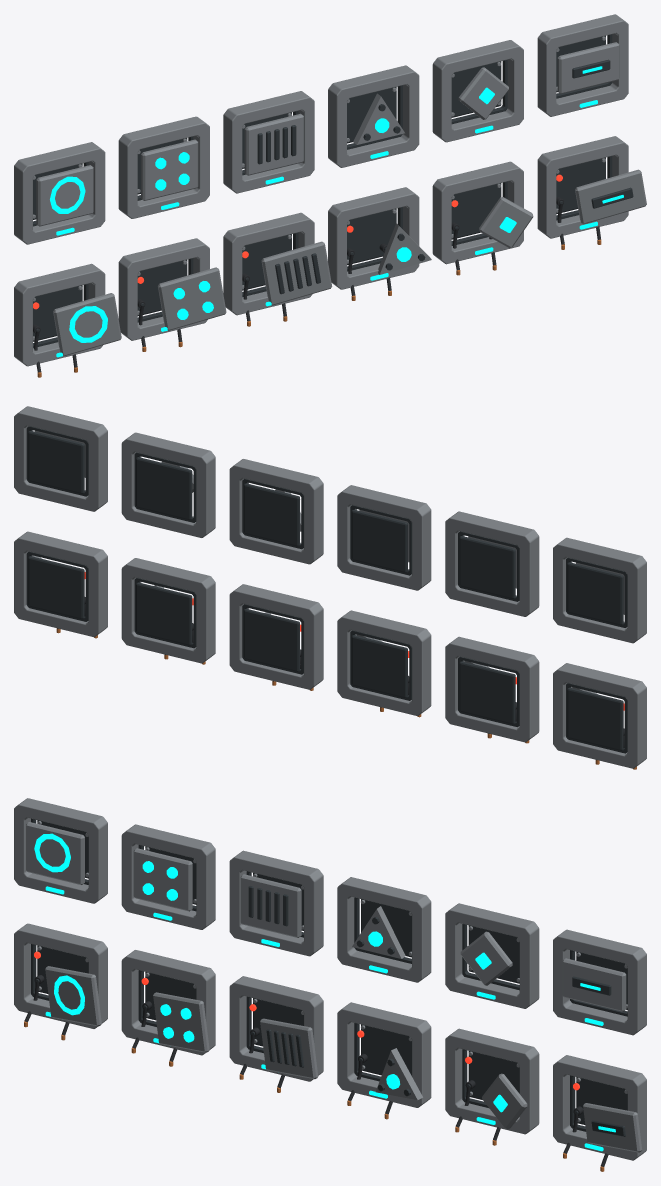
The model's file is QF_MachineNodeKitV2.fbx.
3 renders of one model, top to bottom at view 1: azimuth 30°, elevation 25°; view 2: azimuth 150°, elevation 25°; view 3: azimuth 330°, elevation 25°, orthographic. The views are drawn at different scales.
Parts seen in each view (by area): view 1: NODE_05_DIAMOND_INTACT_FrameIntegrated, NODE_04_RELAY_INTACT_FrameIntegrated, NODE_06_HORIZONTAL_INTACT_FrameIntegrated, NODE_01_RING_INTACT_FrameIntegrated, NODE_02_SENSOR_INTACT_FrameIntegrated, NODE_03_VENT_INTACT_FrameIntegrated, NODE_05_DIAMOND_DAMAGED_FrameIntegrated, NODE_04_RELAY_DAMAGED_FrameIntegrated, NODE_06_HORIZONTAL_DAMAGED_FrameIntegrated, NODE_02_SENSOR_DAMAGED_FrameIntegrated, NODE_03_VENT_DAMAGED_FrameIntegrated, NODE_01_RING_DAMAGED_FrameIntegrated (+23 smaller); view 2: NODE_05_DIAMOND_INTACT_FrameIntegrated, NODE_03_VENT_INTACT_FrameIntegrated, NODE_02_SENSOR_DAMAGED_FrameIntegrated, NODE_04_RELAY_DAMAGED_FrameIntegrated, NODE_04_RELAY_INTACT_FrameIntegrated, NODE_02_SENSOR_INTACT_FrameIntegrated, NODE_03_VENT_DAMAGED_FrameIntegrated, NODE_05_DIAMOND_DAMAGED_FrameIntegrated, NODE_01_RING_INTACT_FrameIntegrated, NODE_06_HORIZONTAL_DAMAGED_FrameIntegrated, NODE_06_HORIZONTAL_INTACT_FrameIntegrated, NODE_01_RING_DAMAGED_FrameIntegrated (+24 smaller); view 3: NODE_05_DIAMOND_INTACT_FrameIntegrated, NODE_04_RELAY_INTACT_FrameIntegrated, NODE_02_SENSOR_INTACT_FrameIntegrated, NODE_06_HORIZONTAL_INTACT_FrameIntegrated, NODE_05_DIAMOND_DAMAGED_FrameIntegrated, NODE_03_VENT_INTACT_FrameIntegrated, NODE_01_RING_INTACT_FrameIntegrated, NODE_04_RELAY_DAMAGED_FrameIntegrated, NODE_06_HORIZONTAL_DAMAGED_FrameIntegrated, NODE_02_SENSOR_DAMAGED_FrameIntegrated, NODE_03_VENT_DAMAGED_FrameIntegrated, NODE_01_RING_DAMAGED_FrameIntegrated (+22 smaller).
Boxes of the visible parts, x1=… form: NODE_05_DIAMOND_INTACT_FrameIntegrated: x1=432, y1=40, x2=523, y2=142; NODE_04_RELAY_INTACT_FrameIntegrated: x1=328, y1=65, x2=419, y2=167; NODE_06_HORIZONTAL_INTACT_FrameIntegrated: x1=537, y1=14, x2=628, y2=116; NODE_01_RING_INTACT_FrameIntegrated: x1=14, y1=142, x2=105, y2=244; NODE_02_SENSOR_INTACT_FrameIntegrated: x1=118, y1=116, x2=209, y2=218; NODE_03_VENT_INTACT_FrameIntegrated: x1=223, y1=91, x2=314, y2=193; NODE_05_DIAMOND_DAMAGED_FrameIntegrated: x1=432, y1=161, x2=523, y2=264; NODE_04_RELAY_DAMAGED_FrameIntegrated: x1=328, y1=187, x2=419, y2=289; NODE_06_HORIZONTAL_DAMAGED_FrameIntegrated: x1=537, y1=136, x2=628, y2=238; NODE_02_SENSOR_DAMAGED_FrameIntegrated: x1=118, y1=238, x2=209, y2=340; NODE_03_VENT_DAMAGED_FrameIntegrated: x1=223, y1=212, x2=314, y2=315; NODE_01_RING_DAMAGED_FrameIntegrated: x1=14, y1=263, x2=105, y2=366; NODE_05_DIAMOND_INTACT_FrameIntegrated: x1=121, y1=432, x2=215, y2=537; NODE_03_VENT_INTACT_FrameIntegrated: x1=337, y1=485, x2=431, y2=590; NODE_02_SENSOR_DAMAGED_FrameIntegrated: x1=445, y1=636, x2=539, y2=742; NODE_04_RELAY_DAMAGED_FrameIntegrated: x1=229, y1=584, x2=323, y2=689; NODE_04_RELAY_INTACT_FrameIntegrated: x1=229, y1=459, x2=323, y2=564; NODE_02_SENSOR_INTACT_FrameIntegrated: x1=445, y1=511, x2=539, y2=616; NODE_03_VENT_DAMAGED_FrameIntegrated: x1=337, y1=610, x2=431, y2=715; NODE_05_DIAMOND_DAMAGED_FrameIntegrated: x1=121, y1=558, x2=215, y2=663; NODE_01_RING_INTACT_FrameIntegrated: x1=553, y1=537, x2=646, y2=643; NODE_06_HORIZONTAL_DAMAGED_FrameIntegrated: x1=14, y1=531, x2=107, y2=637; NODE_06_HORIZONTAL_INTACT_FrameIntegrated: x1=14, y1=406, x2=107, y2=511; NODE_01_RING_DAMAGED_FrameIntegrated: x1=553, y1=663, x2=646, y2=768; NODE_05_DIAMOND_INTACT_FrameIntegrated: x1=445, y1=903, x2=539, y2=1008; NODE_04_RELAY_INTACT_FrameIntegrated: x1=337, y1=877, x2=431, y2=982; NODE_02_SENSOR_INTACT_FrameIntegrated: x1=121, y1=824, x2=215, y2=929; NODE_06_HORIZONTAL_INTACT_FrameIntegrated: x1=553, y1=929, x2=646, y2=1035; NODE_05_DIAMOND_DAMAGED_FrameIntegrated: x1=445, y1=1028, x2=539, y2=1134; NODE_03_VENT_INTACT_FrameIntegrated: x1=229, y1=850, x2=323, y2=956; NODE_01_RING_INTACT_FrameIntegrated: x1=14, y1=798, x2=107, y2=903; NODE_04_RELAY_DAMAGED_FrameIntegrated: x1=337, y1=1002, x2=431, y2=1107; NODE_06_HORIZONTAL_DAMAGED_FrameIntegrated: x1=553, y1=1055, x2=646, y2=1160; NODE_02_SENSOR_DAMAGED_FrameIntegrated: x1=121, y1=950, x2=215, y2=1055; NODE_03_VENT_DAMAGED_FrameIntegrated: x1=229, y1=976, x2=323, y2=1081; NODE_01_RING_DAMAGED_FrameIntegrated: x1=14, y1=923, x2=107, y2=1028.
Size of the model in its own units: 1326 by 442 by 71.91.
